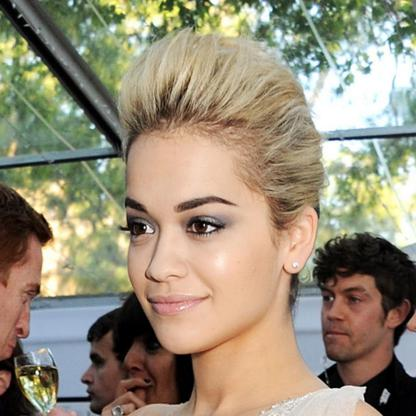face: (125, 126, 284, 355), (322, 261, 389, 361), (122, 314, 183, 407), (2, 231, 44, 364), (82, 330, 128, 412)
